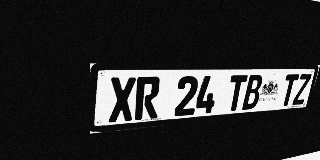2: (174, 76, 199, 116)
4: (195, 75, 219, 114)
B: (242, 75, 264, 110)
R: (135, 76, 161, 120)
T: (225, 75, 248, 111), (279, 74, 299, 106)
X: (109, 77, 136, 123)
Z: (292, 74, 312, 105)
